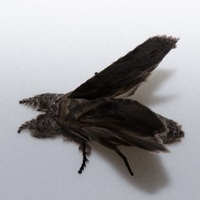insect: (18, 35, 183, 175)
